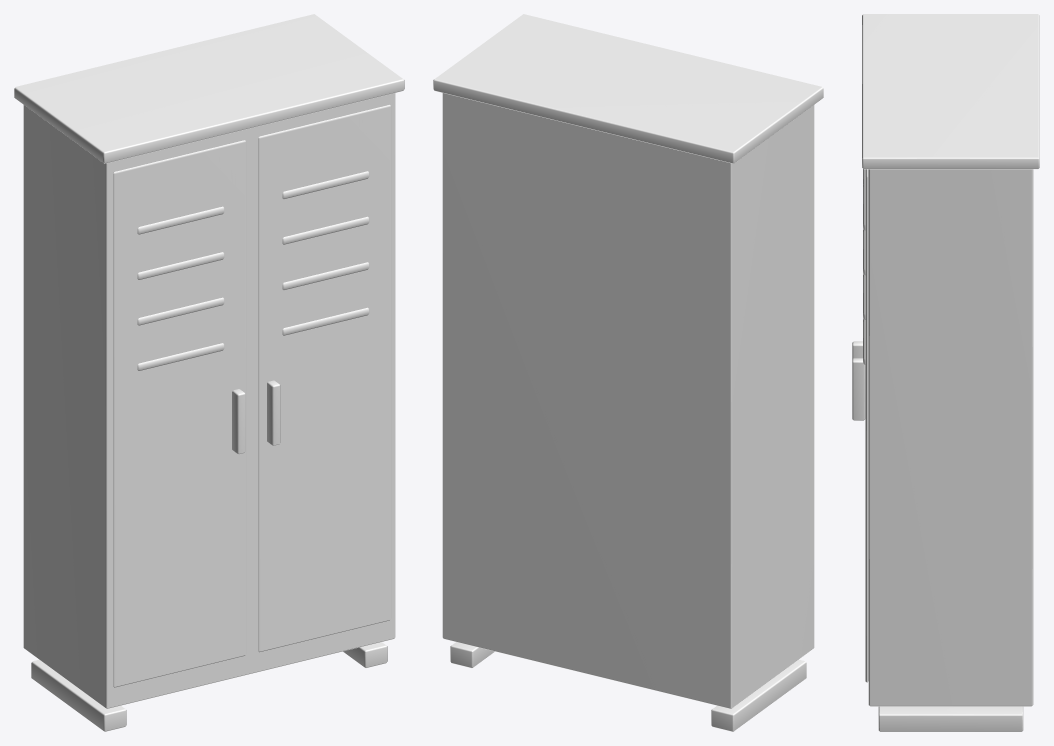
The model's file is almirah.glb.
3 views of the same model, side by side, from view 1: azimuth 30°, elevation 25°; view 2: azimuth 150°, elevation 25°; view 3: azimuth 270°, elevation 25° (orthographic).
Visible parts, largest first — view 1: Almirah; view 2: Almirah; view 3: Almirah.
Part boxes in pixels (x1=…): Almirah: x1=14, y1=14, x2=404, y2=731; Almirah: x1=433, y1=14, x2=823, y2=731; Almirah: x1=852, y1=14, x2=1039, y2=731.
Size of the model in its own units: 1.04 by 1.94 by 0.57.
1 material, 1 textured.
